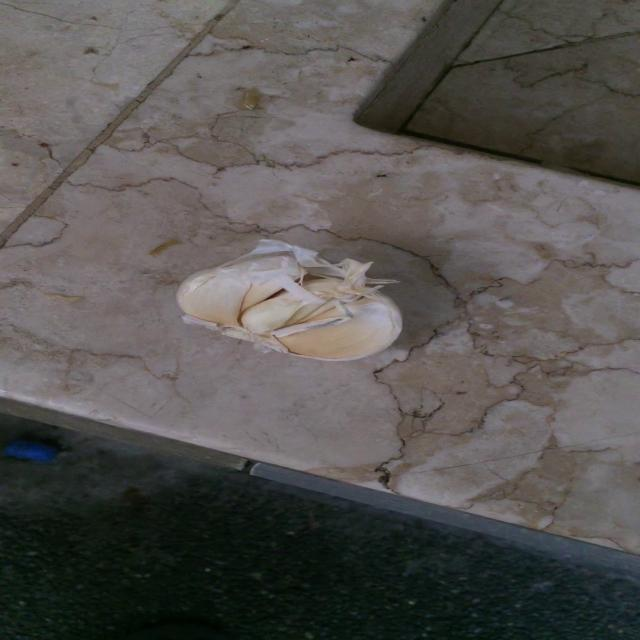garlic: (166, 237, 410, 364)
